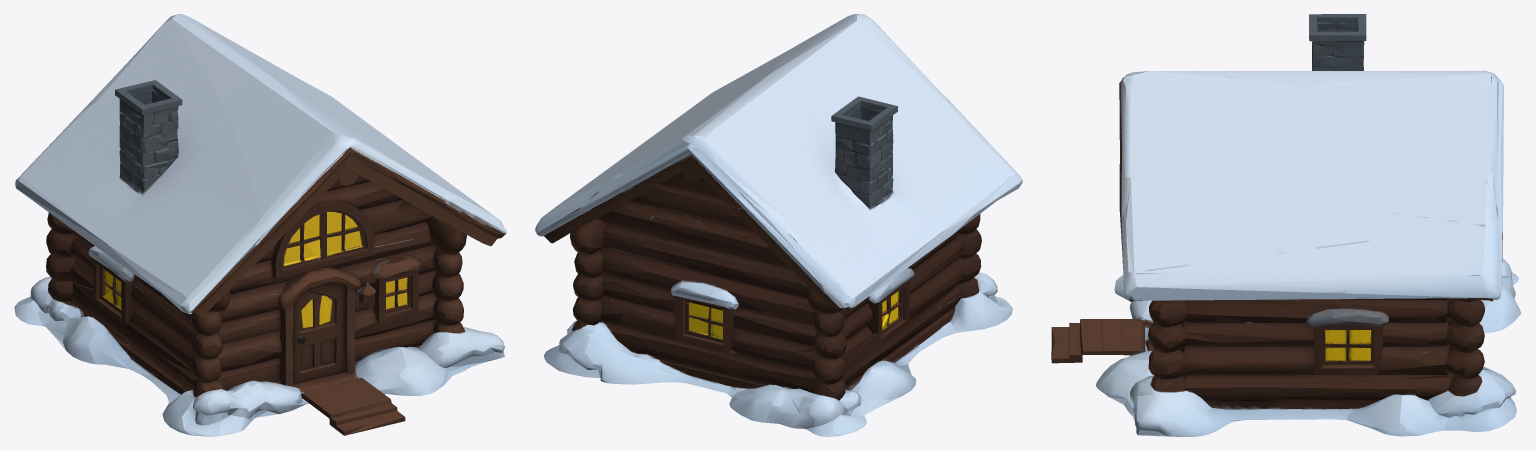
File: house.glb
3 views of the same model, side by side, from view 1: azimuth 30°, elevation 25°; view 2: azimuth 150°, elevation 25°; view 3: azimuth 270°, elevation 25° (orthographic). The views are drawn at different scales.
Size of the model in its own units: 1.64 by 1.24 by 1.9.
Materials: 1 (1 with a texture image).
